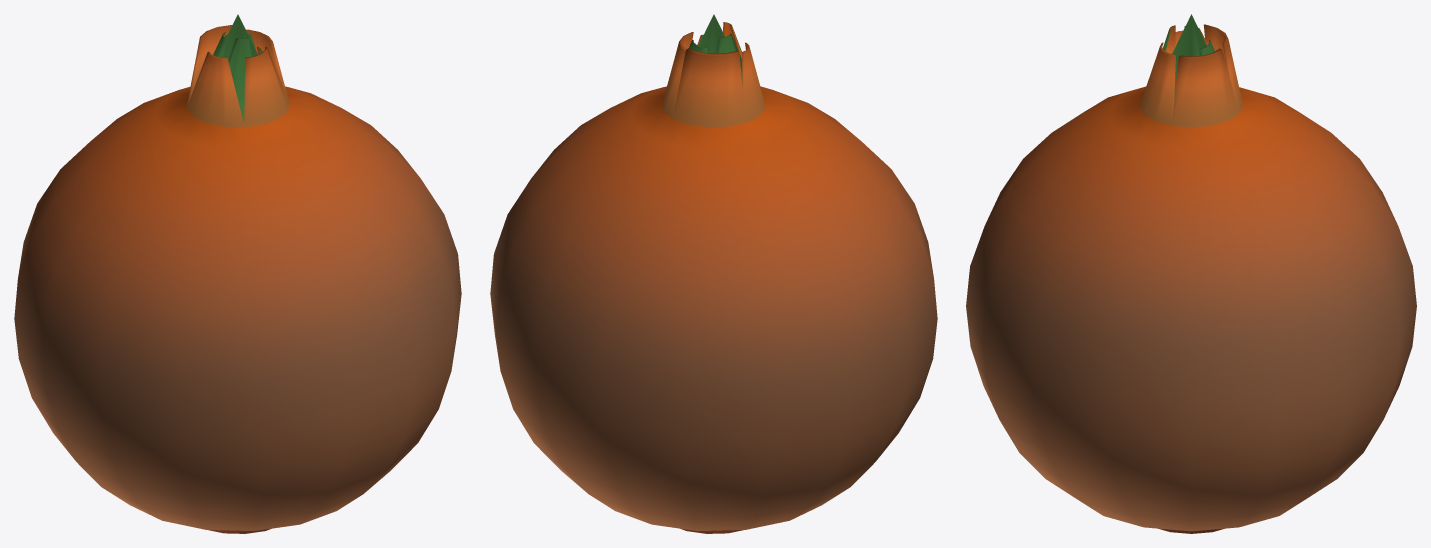
File: Onion.glb
The picture shows the model from 3 angles, left to right: view 1: azimuth 30°, elevation 25°; view 2: azimuth 150°, elevation 25°; view 3: azimuth 270°, elevation 25°; orthographic projection.
Visible parts, largest first — view 1: Sphere.007; view 2: Sphere.007; view 3: Sphere.007.
Boxes of the visible parts, box(x1,y1,x2,y2) form: Sphere.007: box(14, 14, 461, 533); Sphere.007: box(490, 14, 937, 533); Sphere.007: box(966, 14, 1416, 533).
Size of the model in its own units: 0.1914 by 0.234 by 0.1913.
1 material, 1 textured.
